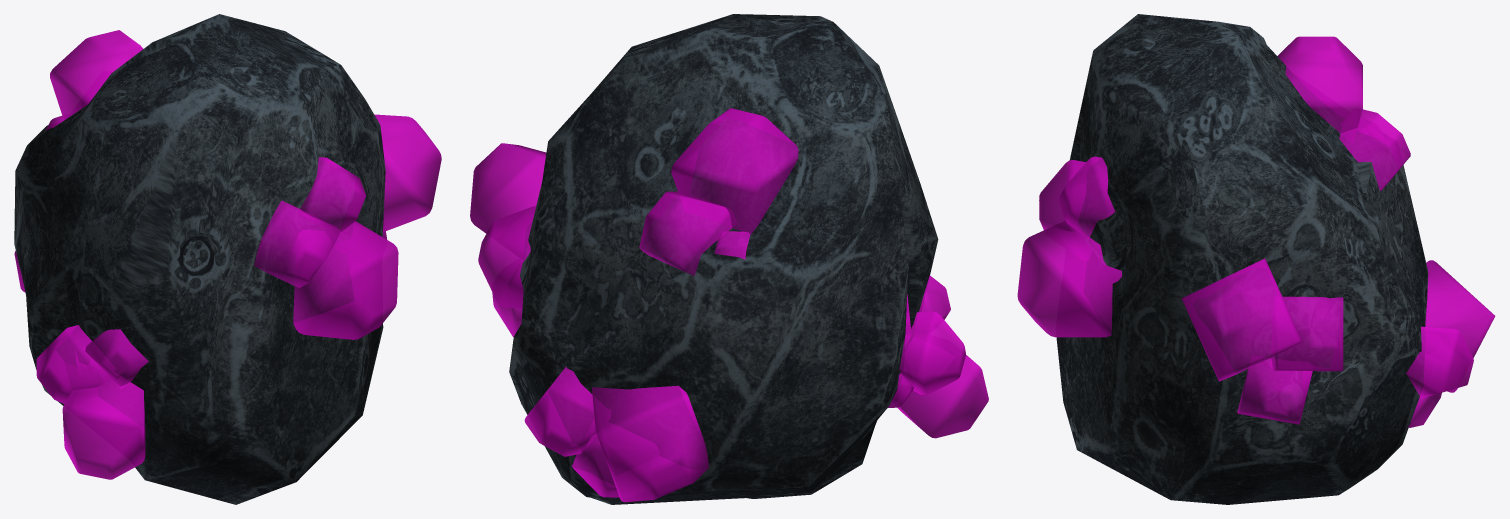
File: rockPurple2.gltf
The picture shows the model from 3 angles, left to right: view 1: azimuth 30°, elevation 25°; view 2: azimuth 150°, elevation 25°; view 3: azimuth 270°, elevation 25°; orthographic projection. The views are drawn at different scales.
Parts seen in each view (by area): view 1: RockLP, Cube.008, Cube.012, Cube.004, Cube.011, Cube, Cube.015, Cube.010, Cube.014; view 2: RockLP, Cube.016, Cube, Cube.012, Cube.004, Cube.003, Cube.018, Cube.015, Cube.007, Cube.019, Cube.014, Cube.001 (+1 smaller); view 3: RockLP, Cube.008, Cube.004, Cube, Cube.007, Cube.006, Cube.016, Cube.018, Cube.003, Cube.010, Cube.011, Cube.019.
Boxes of the visible parts, x1,y1,x2,y2 form: RockLP: (14, 14, 385, 504); Cube.008: (292, 221, 398, 339); Cube.012: (62, 360, 145, 479); Cube.004: (374, 114, 441, 232); Cube.011: (254, 200, 340, 287); Cube: (50, 30, 143, 120); Cube.015: (36, 325, 115, 407); Cube.010: (298, 157, 365, 231); Cube.014: (84, 329, 148, 387); RockLP: (509, 14, 938, 504); Cube.016: (592, 385, 708, 502); Cube: (671, 108, 798, 234); Cube.012: (893, 335, 988, 438); Cube.004: (470, 143, 546, 259); Cube.003: (639, 191, 736, 276); Cube.018: (524, 367, 610, 456); Cube.015: (899, 311, 965, 395); Cube.007: (478, 206, 535, 308); Cube.019: (572, 421, 658, 497); Cube.014: (906, 275, 950, 337); Cube.001: (714, 231, 750, 259); RockLP: (1056, 14, 1428, 504); Cube.008: (1017, 221, 1121, 337); Cube.004: (1181, 258, 1302, 381); Cube: (1277, 36, 1362, 142); Cube.007: (1270, 296, 1343, 371); Cube.006: (1237, 355, 1312, 424); Cube.016: (1425, 260, 1495, 392); Cube.018: (1406, 326, 1473, 398); Cube.003: (1339, 108, 1410, 190); Cube.010: (1058, 156, 1115, 238); Cube.011: (1039, 160, 1091, 260); Cube.019: (1408, 354, 1441, 427).
Size of the model in its own units: 3.02 by 3.05 by 2.91.
Materials: 2 (1 with a texture image).
